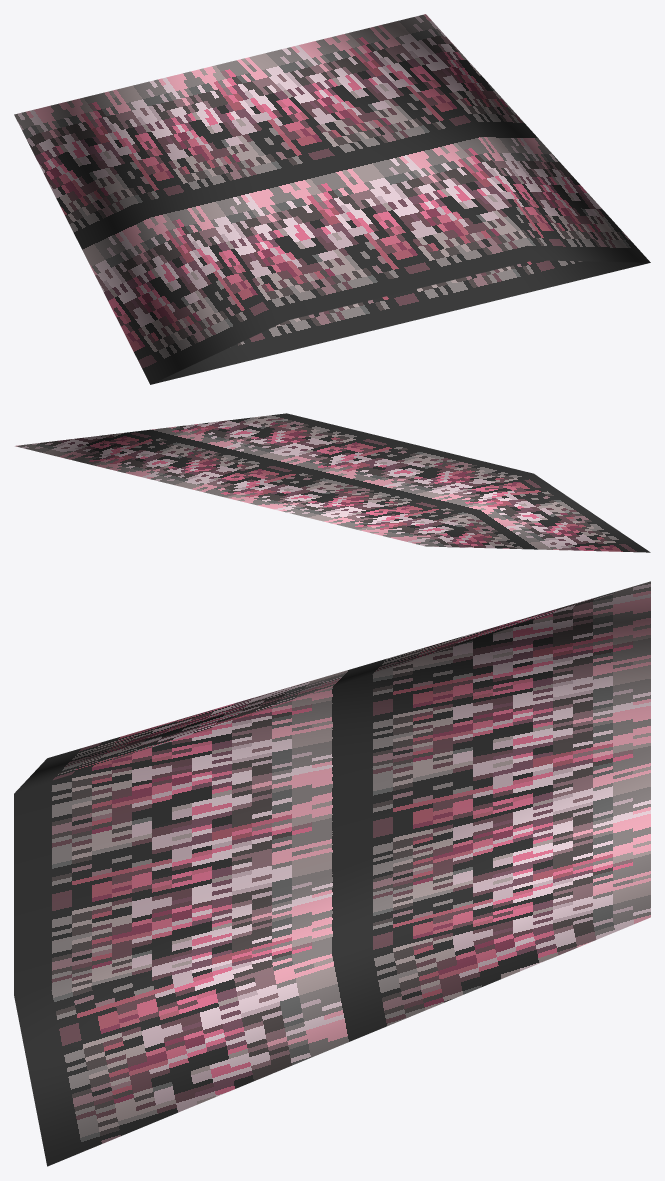
File: 2314skirt00_r.gltf
The picture shows the model from 3 angles, top to bottom: view 1: azimuth 30°, elevation 25°; view 2: azimuth 150°, elevation 25°; view 3: azimuth 270°, elevation 25°; orthographic projection. The views are drawn at different scales.
Parts seen in each view (by area): view 1: 2314skirt00_r; view 2: 2314skirt00_r; view 3: 2314skirt00_r.
Boxes of the visible parts, x1,y1,x2,y2 form: 2314skirt00_r: [14, 14, 650, 384]; 2314skirt00_r: [15, 413, 650, 552]; 2314skirt00_r: [14, 581, 650, 1166].
Bounding box in the file's own units: 0.9868 × 0.24 × 0.6504.
1 material, 1 textured.
